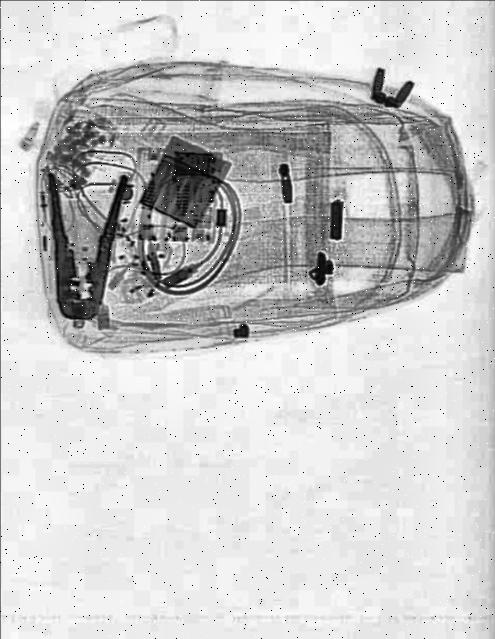Pliers: (43, 171, 129, 323)
